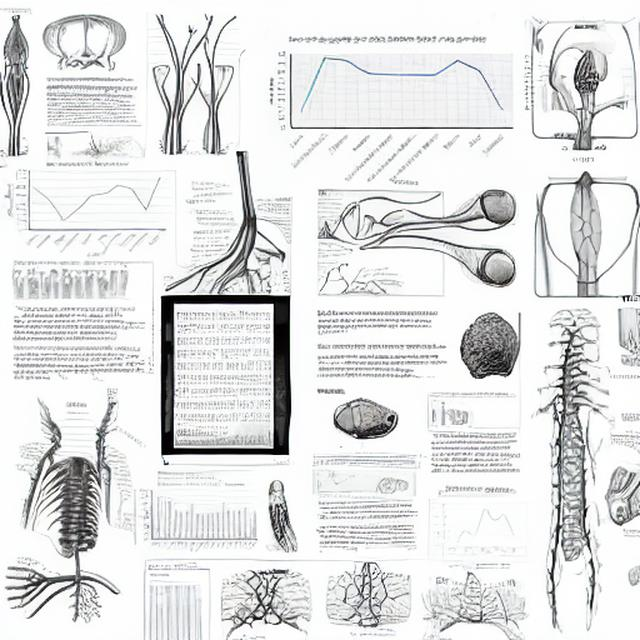Graph: (261, 31, 516, 187), (6, 159, 169, 258), (131, 480, 261, 554), (438, 497, 526, 554), (310, 469, 362, 500)
